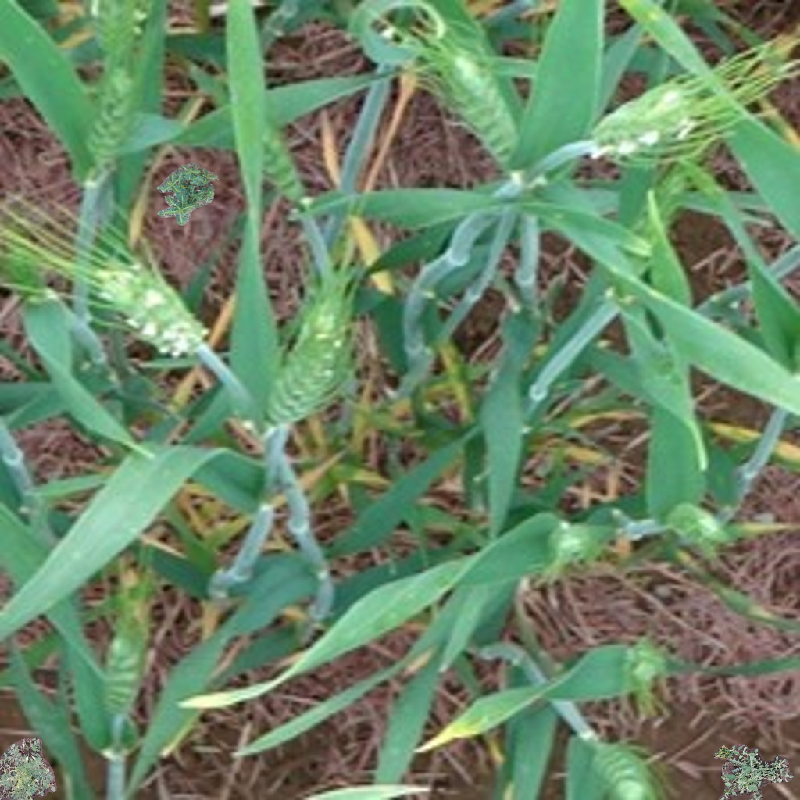spikelet: (87, 246, 216, 364), (257, 299, 355, 435), (431, 41, 520, 167), (581, 75, 704, 165), (75, 60, 146, 184), (620, 172, 695, 284), (239, 112, 305, 206), (100, 612, 142, 725), (659, 494, 732, 559), (712, 739, 785, 798), (587, 737, 654, 800), (158, 161, 216, 219), (1, 743, 56, 799), (1, 232, 50, 291), (631, 645, 663, 696)
weed: (709, 733, 798, 800), (1, 731, 66, 800), (156, 162, 219, 226)
